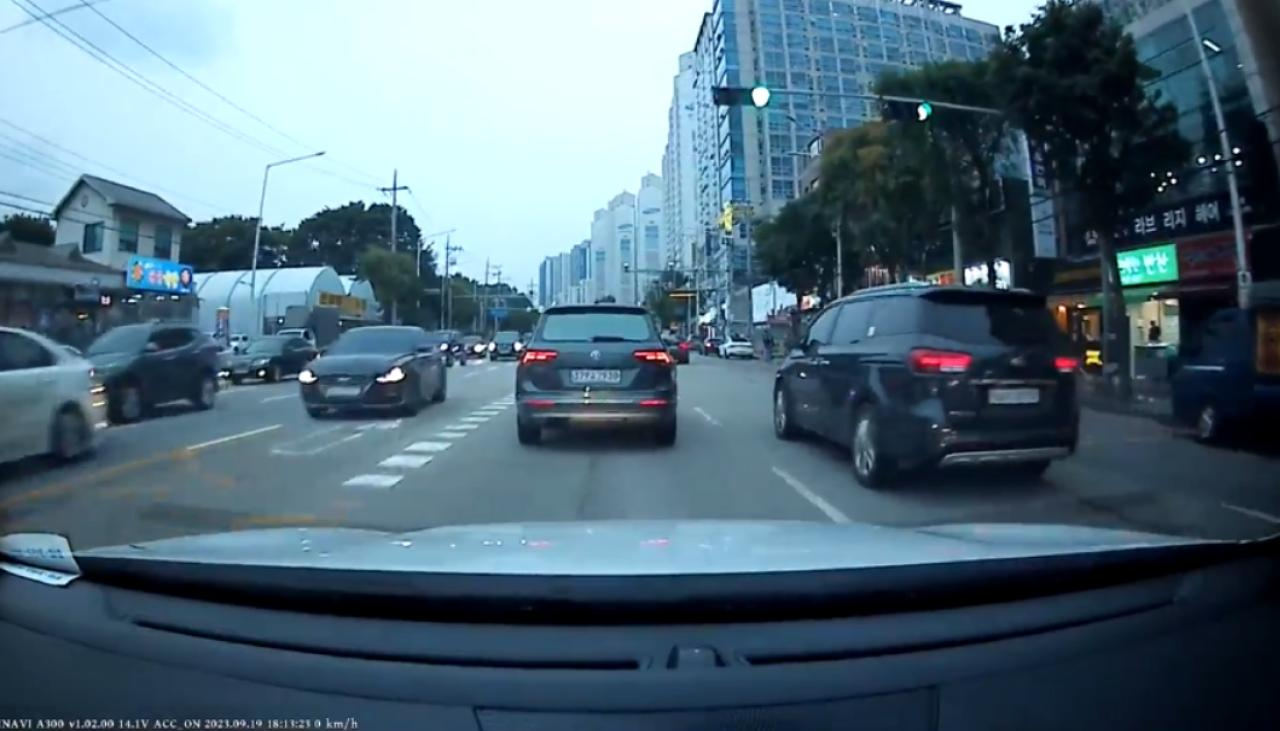Green Light: (750, 83, 770, 109), (914, 102, 932, 122)
